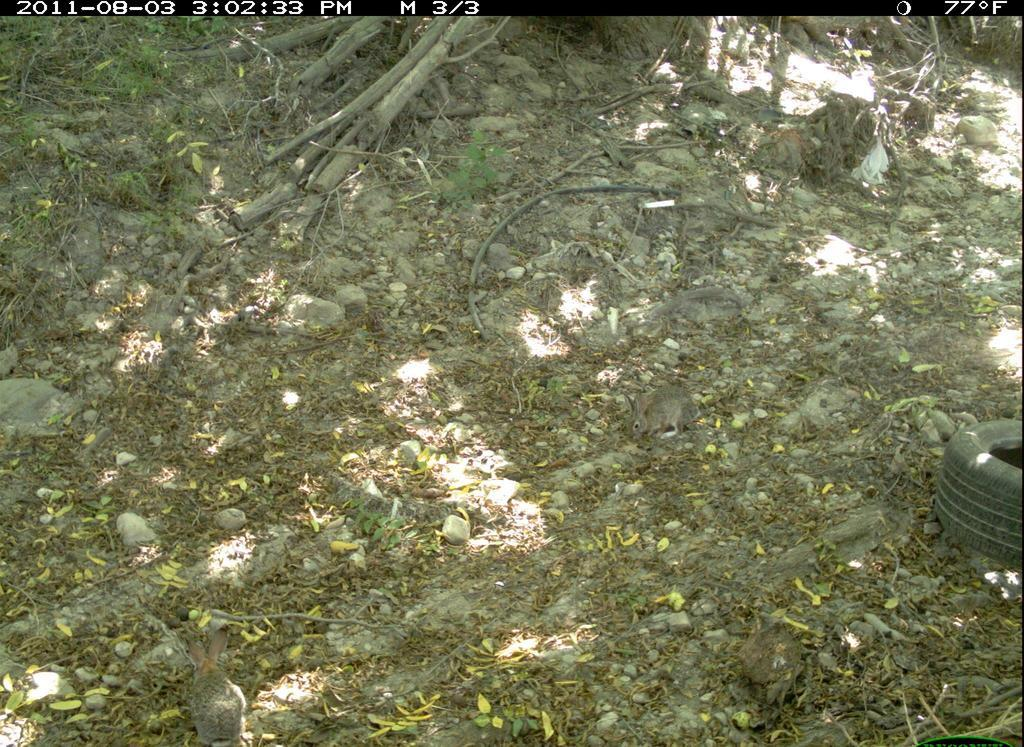rabbit: (176, 621, 262, 745), (616, 374, 711, 447)
